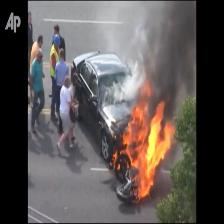fire: (103, 85, 183, 209)
smoke: (131, 0, 195, 111)
